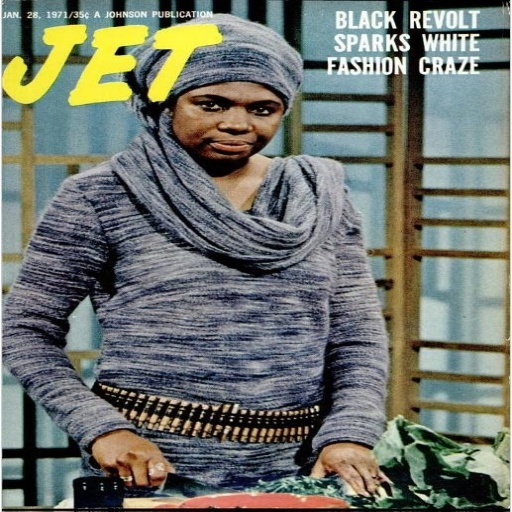hand: (89, 428, 174, 486), (309, 440, 380, 497)
